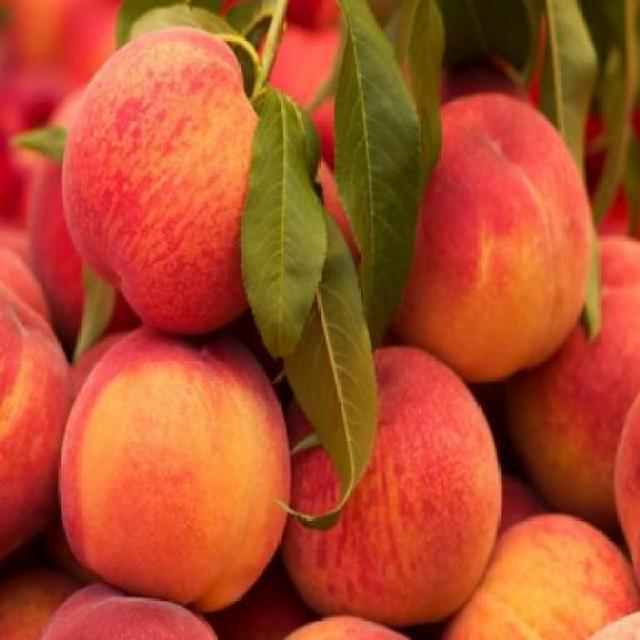Peach: (0, 0, 638, 638), (57, 327, 286, 611)
